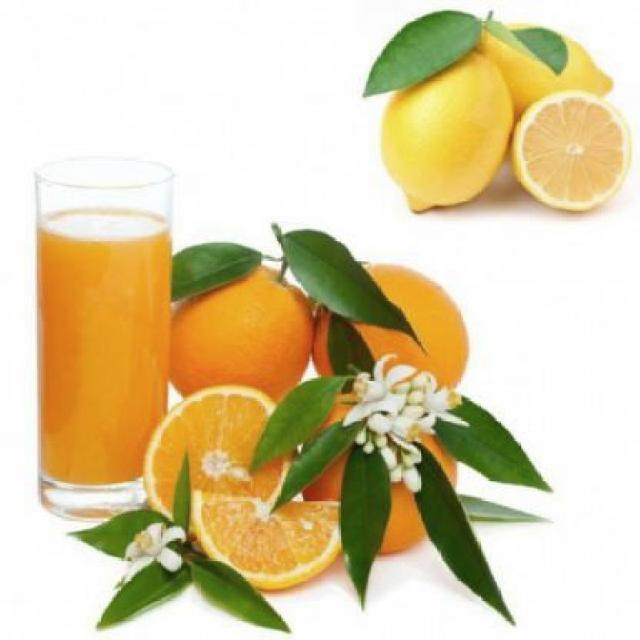Jeruk Sudah Matang: (294, 378, 460, 560), (316, 260, 472, 402), (166, 257, 306, 406)
